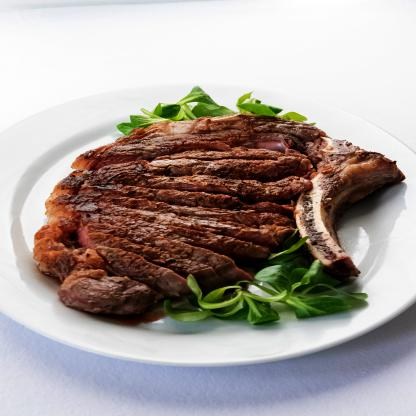Carne: (43, 206, 270, 253), (77, 226, 229, 280), (55, 170, 309, 199), (76, 150, 312, 174), (55, 194, 290, 218), (121, 121, 316, 149), (80, 249, 193, 297), (52, 272, 173, 310)
